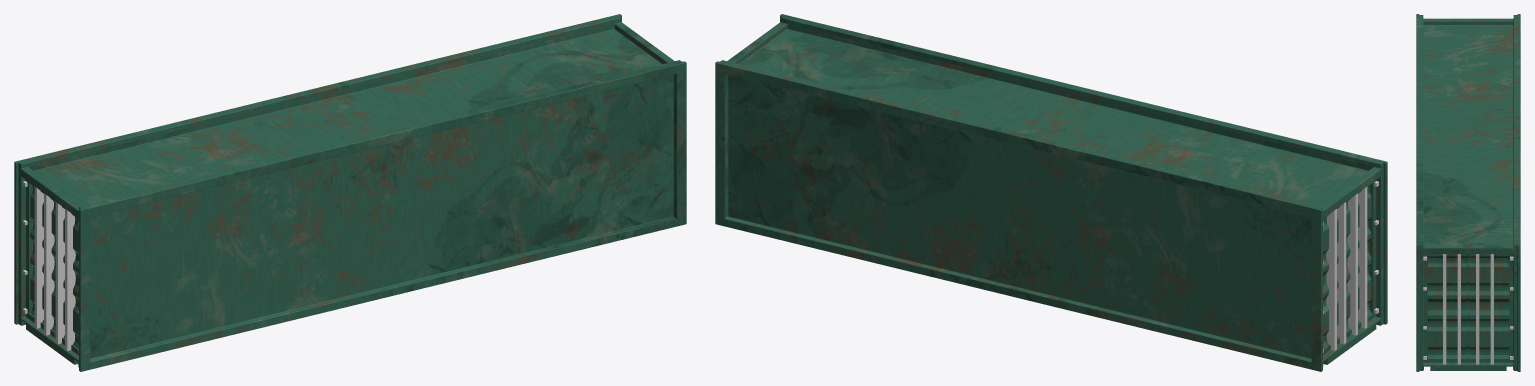
Rendered from greenBigCrate.fbx.
3 views of the same model, side by side, from view 1: azimuth 30°, elevation 25°; view 2: azimuth 150°, elevation 25°; view 3: azimuth 270°, elevation 25° (orthographic). The views are drawn at different scales.
Parts seen in each view (by area): view 1: crateBig_lo; view 2: crateBig_lo; view 3: crateBig_lo.
Boxes of the visible parts, x1,y1,x2,y2 form: crateBig_lo: [14, 14, 686, 371]; crateBig_lo: [715, 14, 1387, 371]; crateBig_lo: [1416, 14, 1520, 371].
Size of the model in its own units: 12.1 by 3.09 by 2.3.
